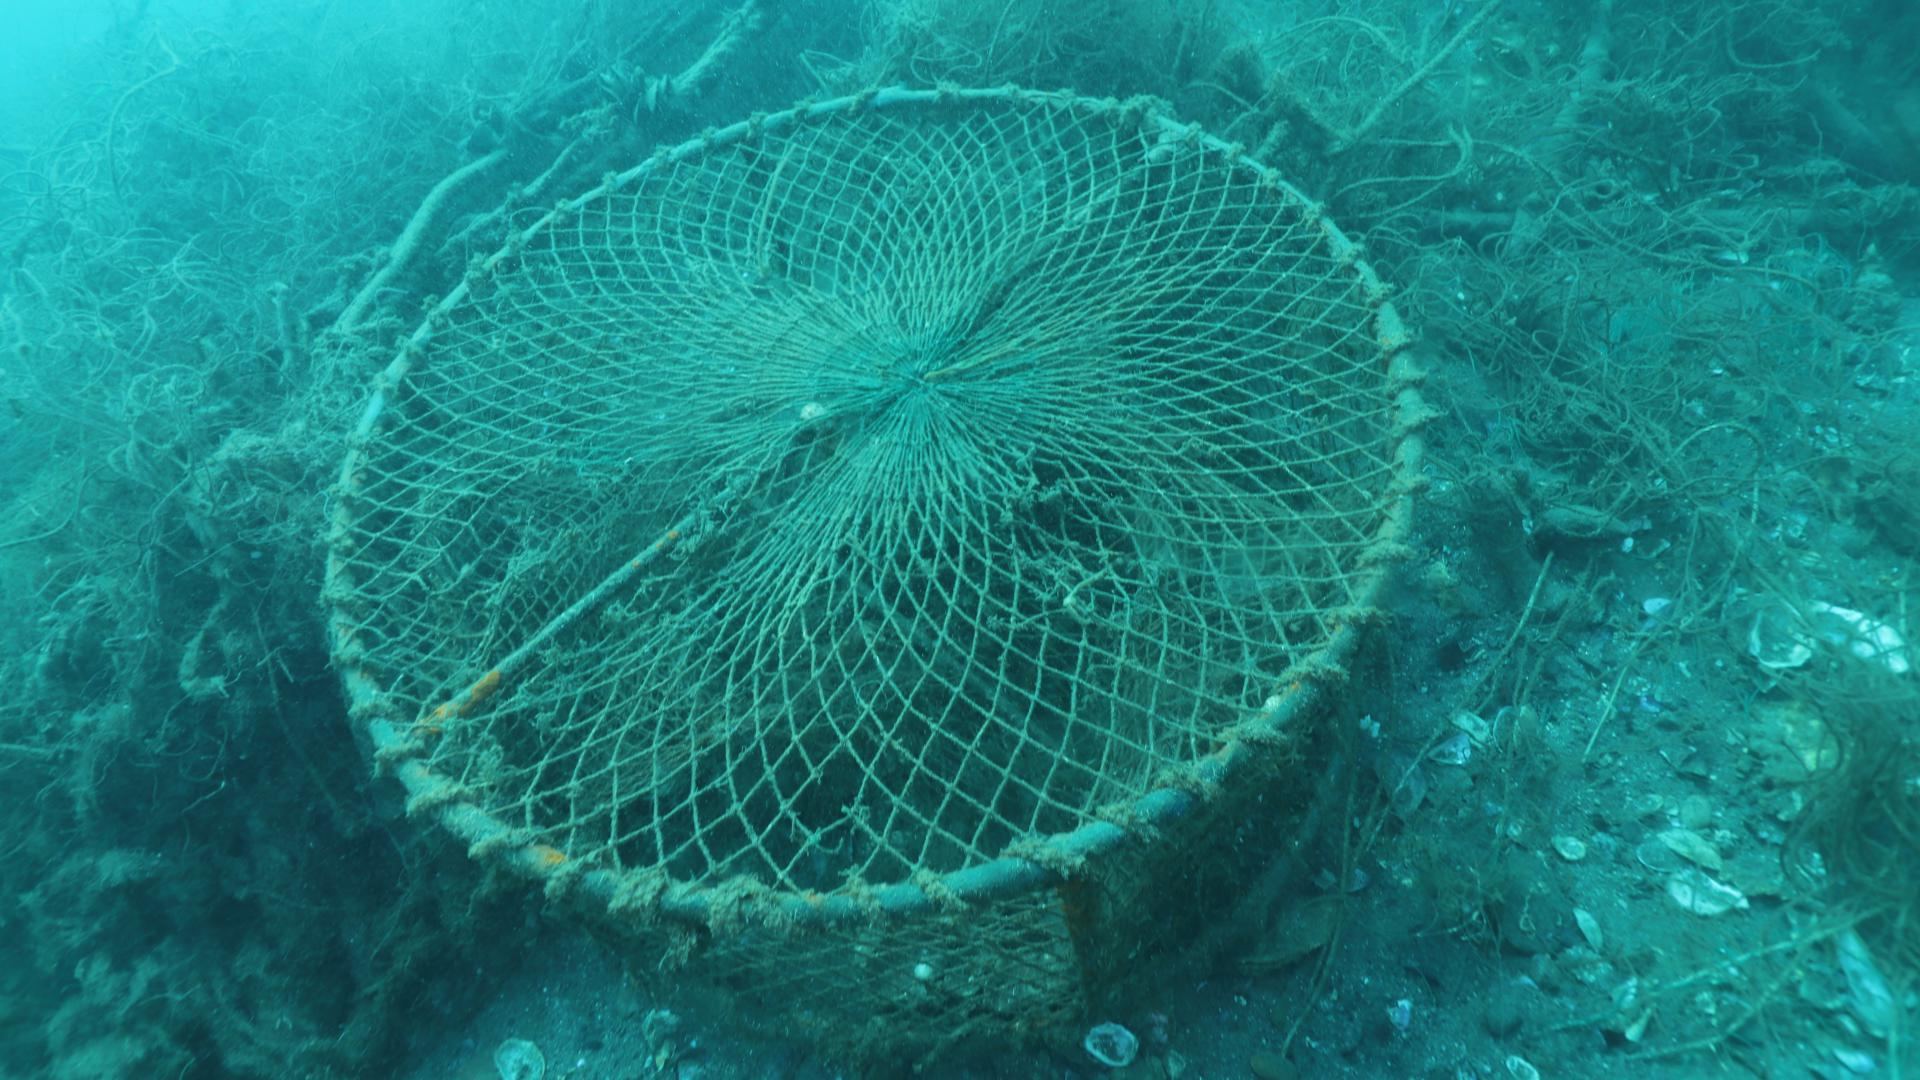circular fish trap: (314, 82, 1428, 1069)
